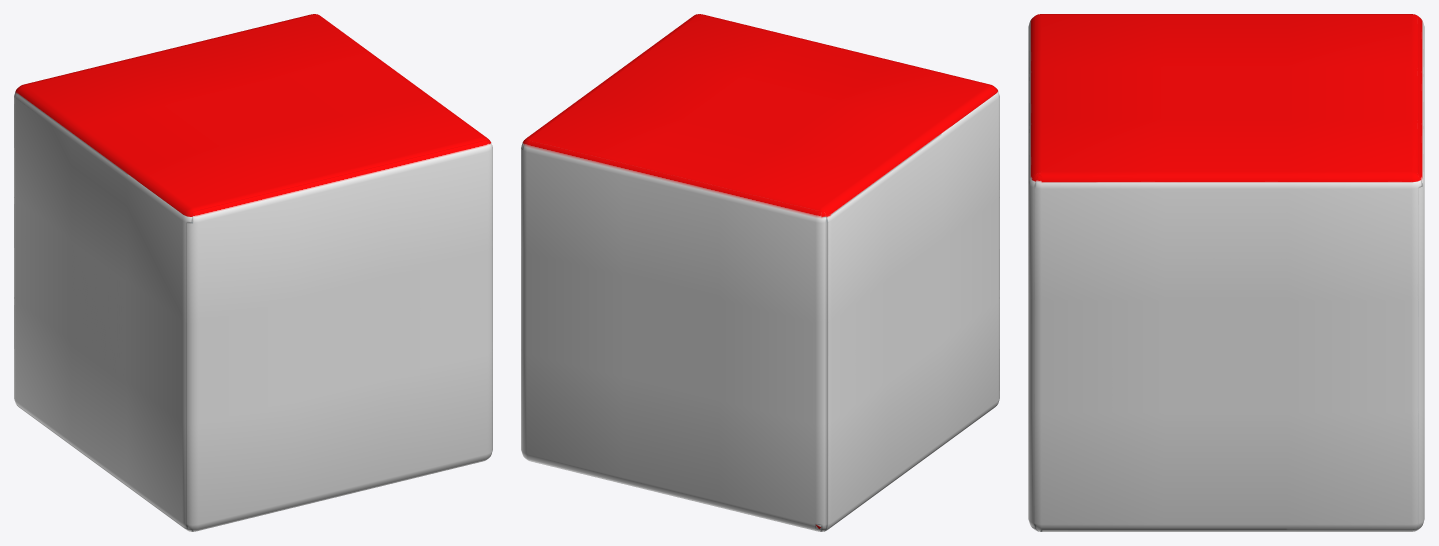
Rendered from Cubo único 33.fbx.
3 views of the same model, side by side, from view 1: azimuth 30°, elevation 25°; view 2: azimuth 150°, elevation 25°; view 3: azimuth 270°, elevation 25° (orthographic). The views are drawn at different scales.
Visible parts, largest first — view 1: Cubo; view 2: Cubo; view 3: Cubo.
Boxes of the visible parts, box(x1,y1,x2,y2) form: Cubo: box(14, 14, 492, 531); Cubo: box(521, 14, 999, 531); Cubo: box(1028, 14, 1424, 531).
Bounding box in the file's own units: 100 × 100 × 100.
Materials: 1 (1 with a texture image).
